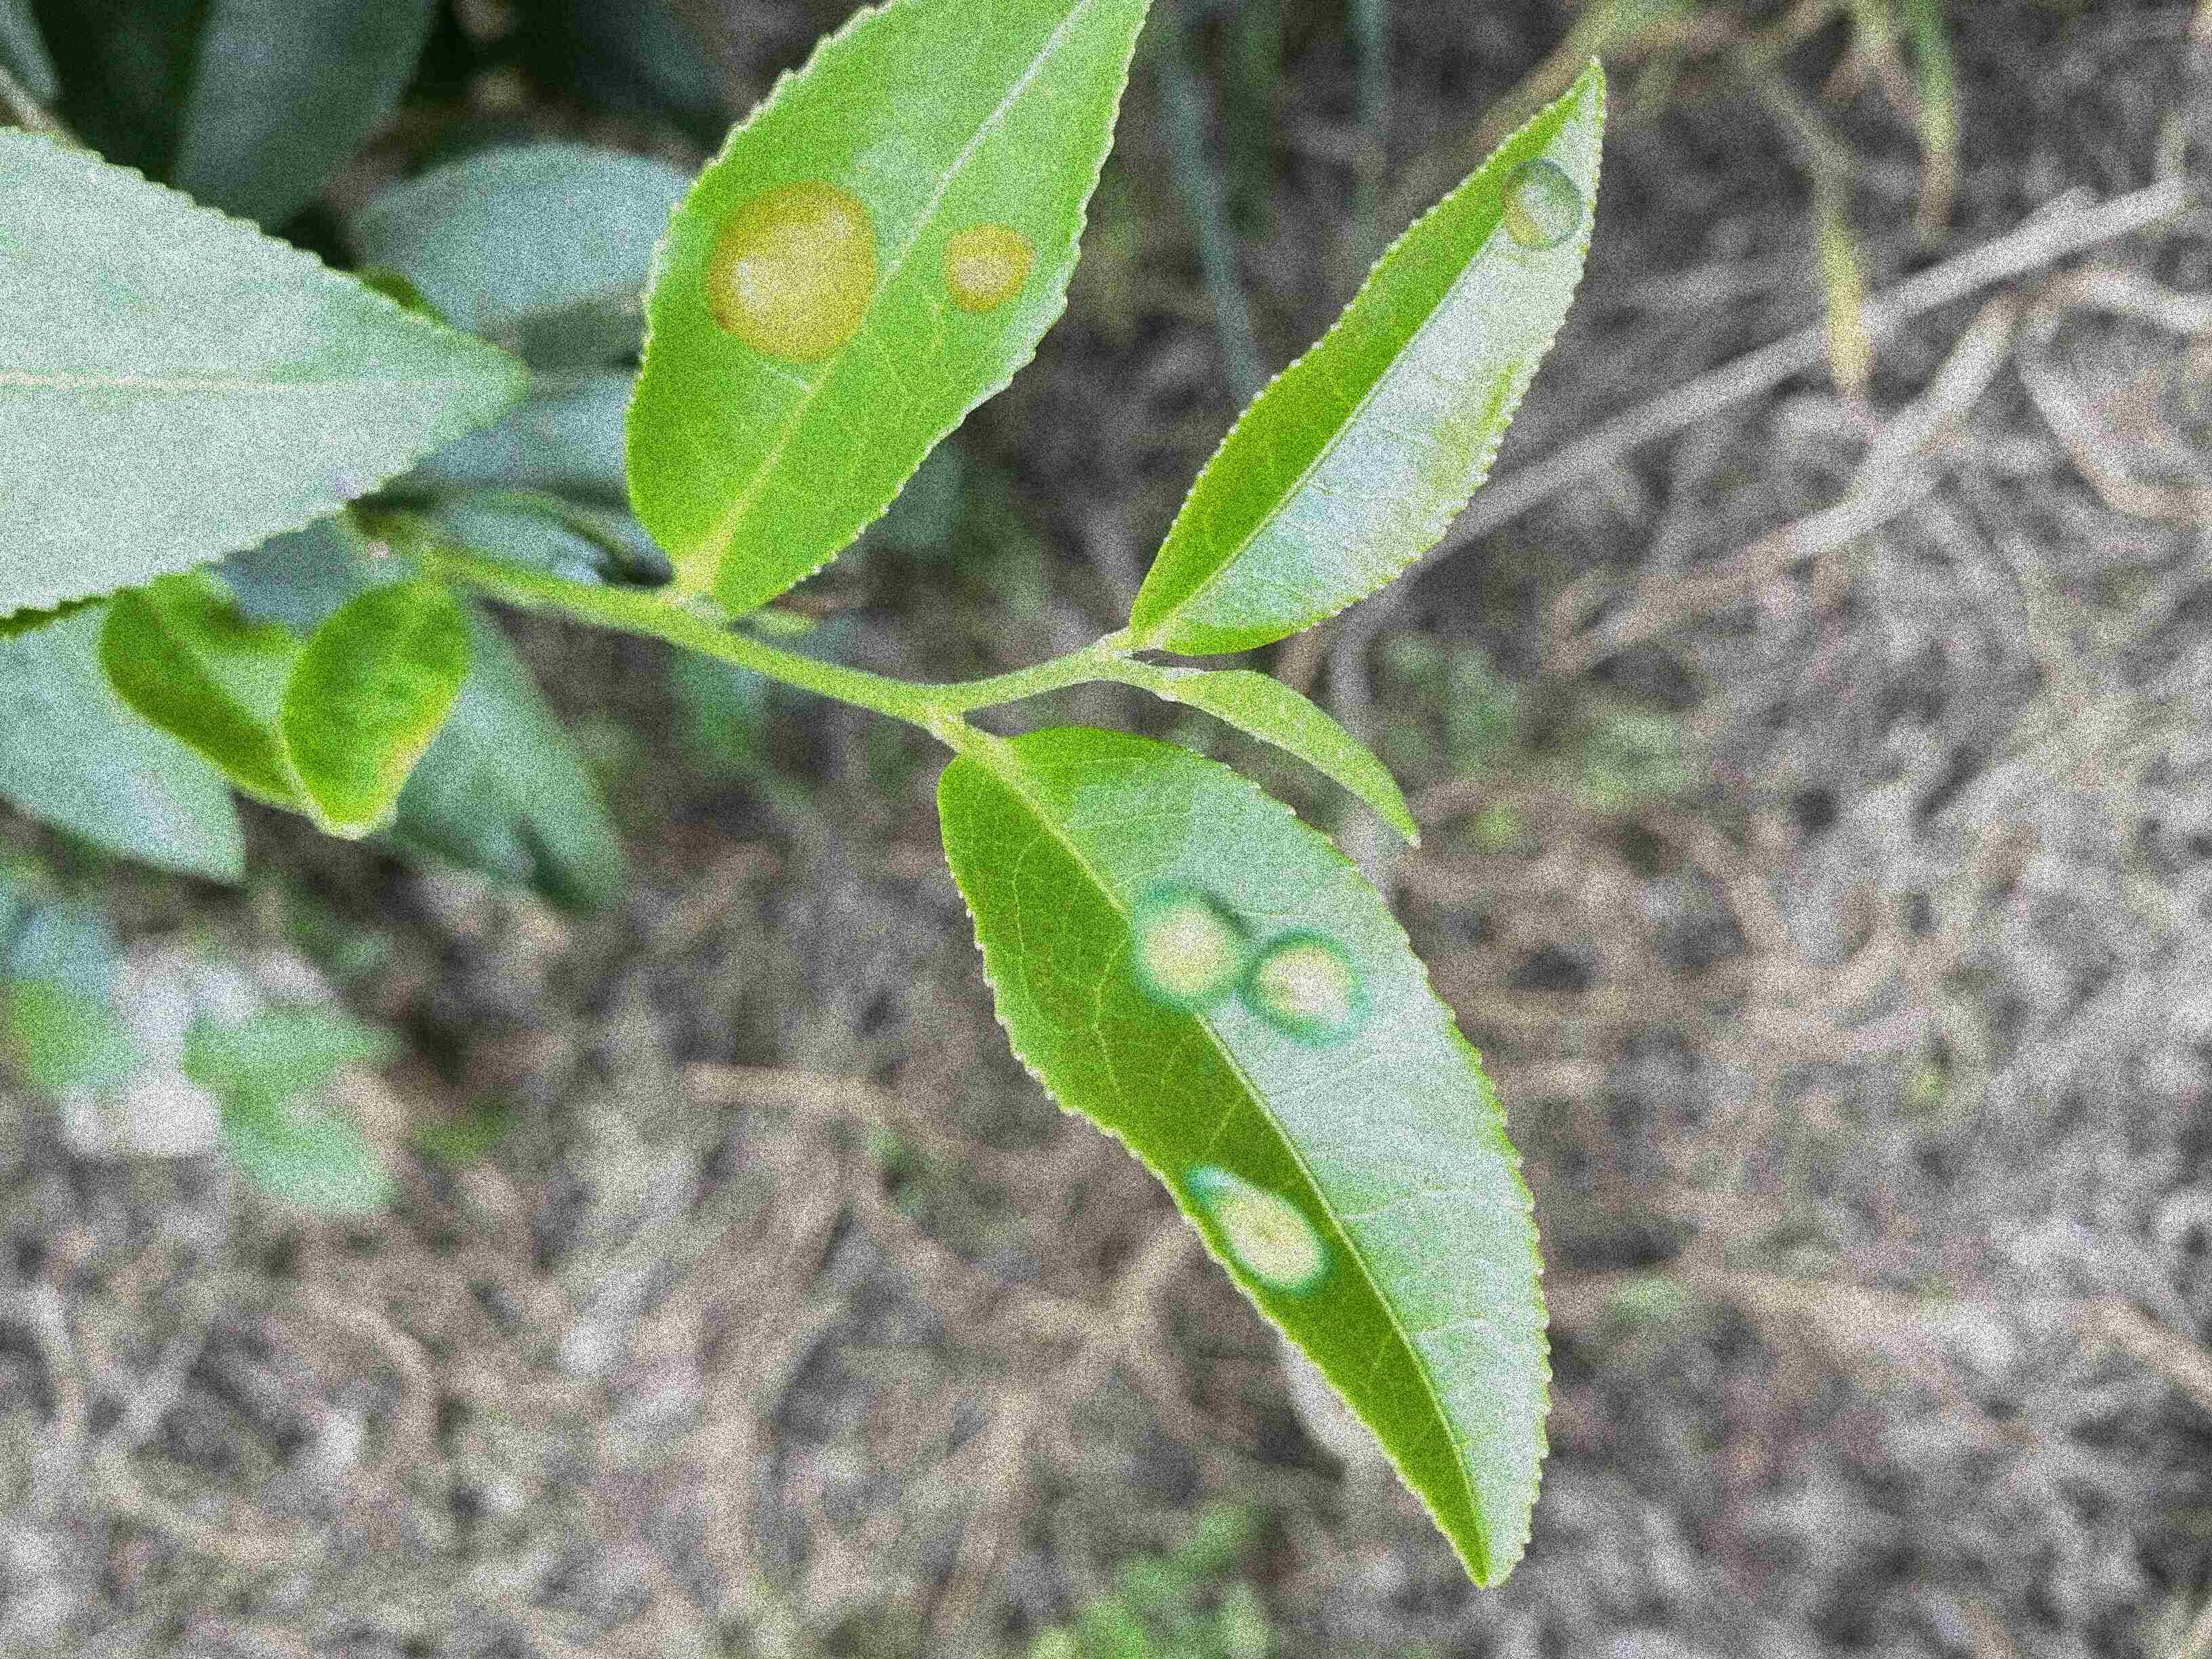chabing_high: (937, 725, 1555, 1595), (622, 0, 1153, 613)
chabing_low: (1127, 56, 1609, 659)
